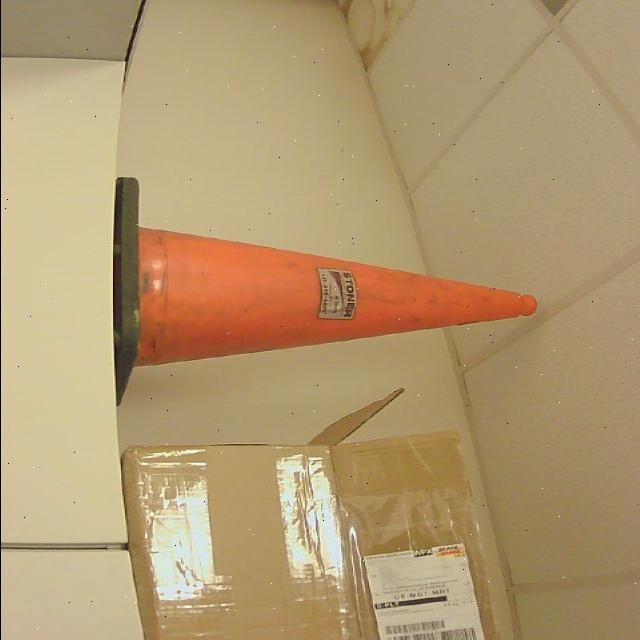traffic cone: (114, 177, 537, 403)
